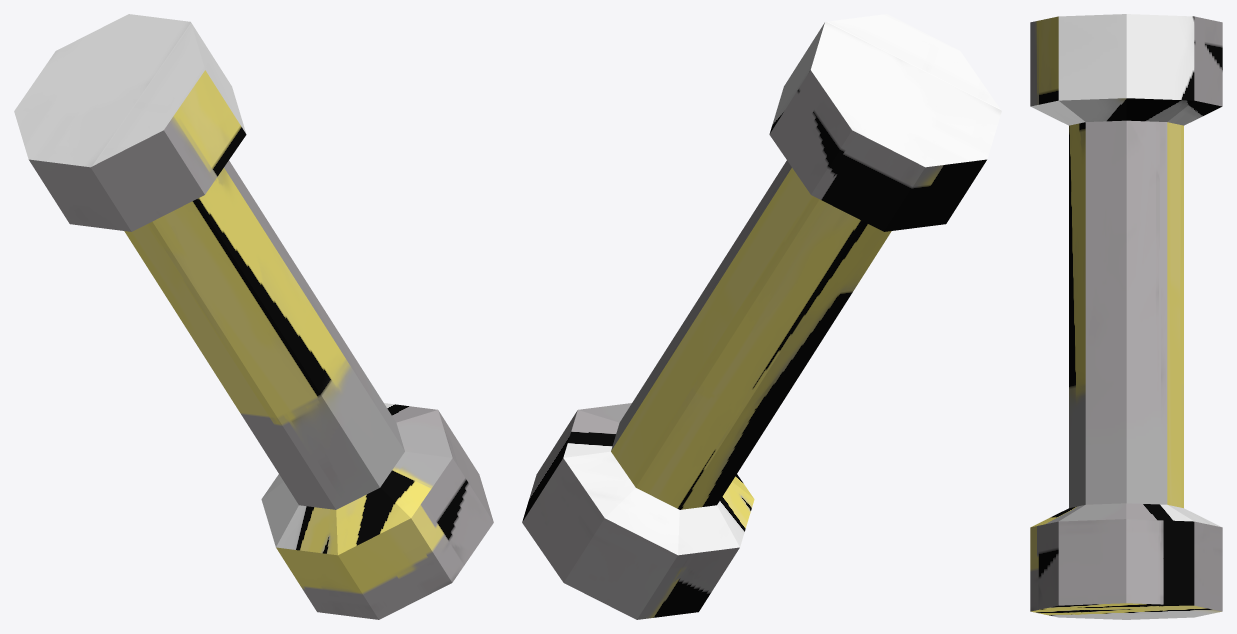
File: quad.obj
The picture shows the model from 3 angles, left to right: view 1: azimuth 30°, elevation 25°; view 2: azimuth 150°, elevation 25°; view 3: azimuth 270°, elevation 25°; orthographic projection. The views are drawn at different scales.
Parts seen in each view (by area): view 1: Cylinder; view 2: Cylinder; view 3: Cylinder.
Boxes of the visible parts, x1,y1,x2,y2 form: Cylinder: (14,14,493,619); Cylinder: (522,14,1001,619); Cylinder: (1030,14,1222,619).
Bounding box in the file's own units: 7.22 × 9.5 × 3.
